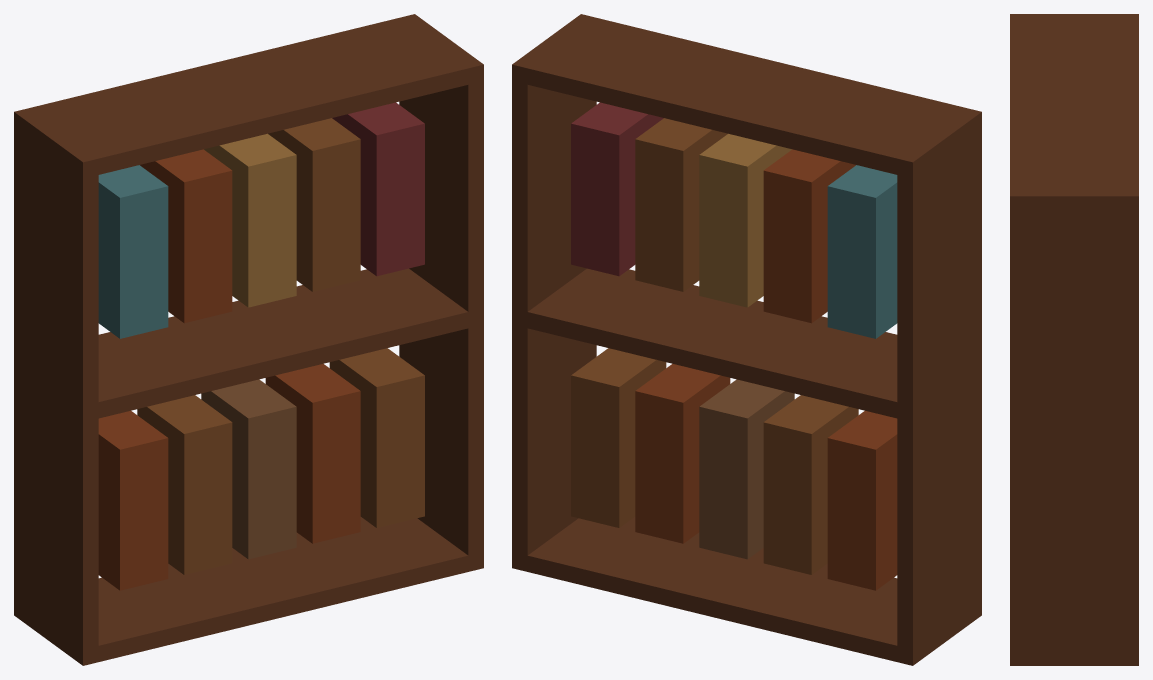
Rendered from helmet_shelf.glb.
3 views of the same model, side by side, from view 1: azimuth 30°, elevation 25°; view 2: azimuth 150°, elevation 25°; view 3: azimuth 270°, elevation 25° (orthographic). The views are drawn at different scales.
Visible parts, largest first — view 1: body; view 2: body; view 3: body.
Part boxes in pixels (box(x1,y1,x2,y2)): body: box(14, 14, 483, 665); body: box(512, 14, 981, 665); body: box(1010, 14, 1138, 665).
Size of the model in its own units: 0.998 by 1.2 by 0.298.
Materials: 1 (1 with a texture image).
